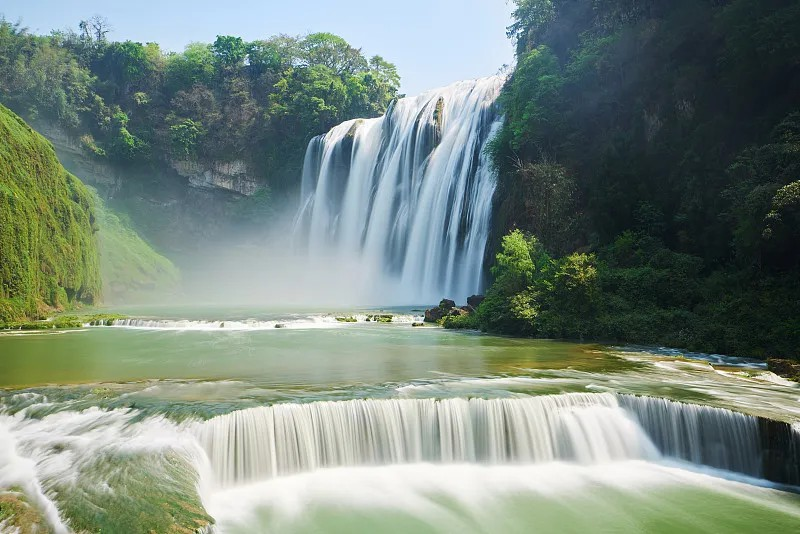Huangguoshu: (297, 74, 497, 311)
